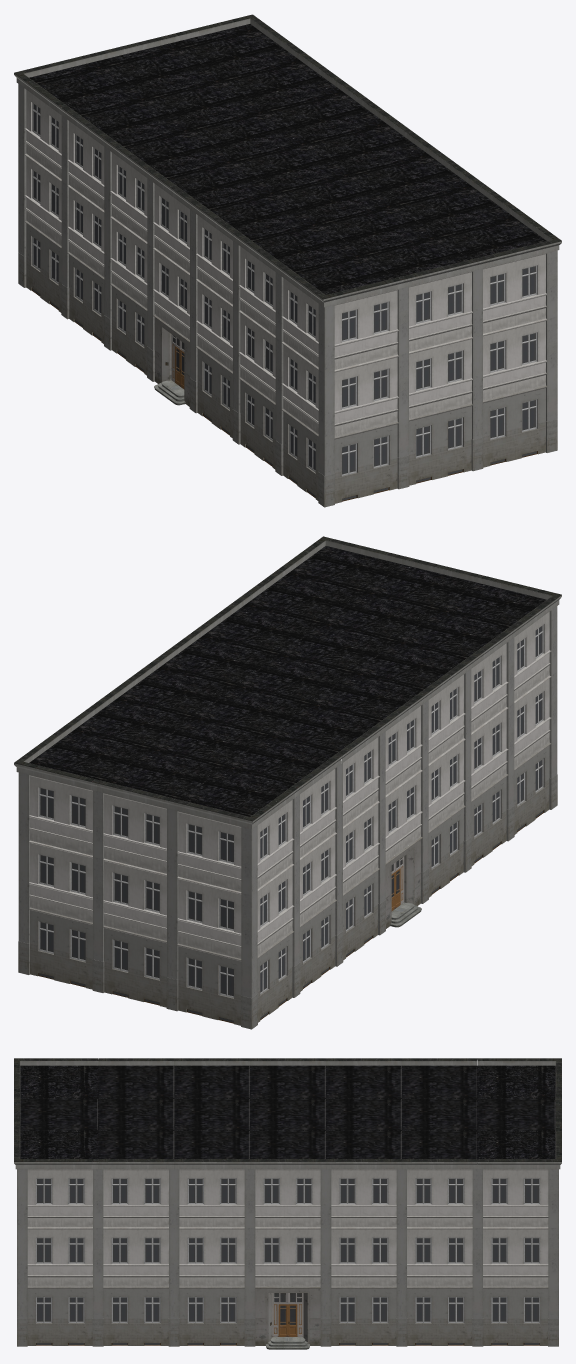
Rendered from tenement.glb.
3 views of the same model, one above another, from view 1: azimuth 30°, elevation 25°; view 2: azimuth 150°, elevation 25°; view 3: azimuth 270°, elevation 25° (orthographic). The views are drawn at different scales.
Parts seen in each view (by area): view 1: prop; view 2: prop; view 3: prop.
Boxes of the visible parts, bbox=[...] form: prop: bbox=[14, 14, 561, 507]; prop: bbox=[14, 536, 561, 1029]; prop: bbox=[14, 1058, 561, 1349].
Size of the model in its own units: 20.89 by 17 by 45.29.
1 material, 1 textured.
